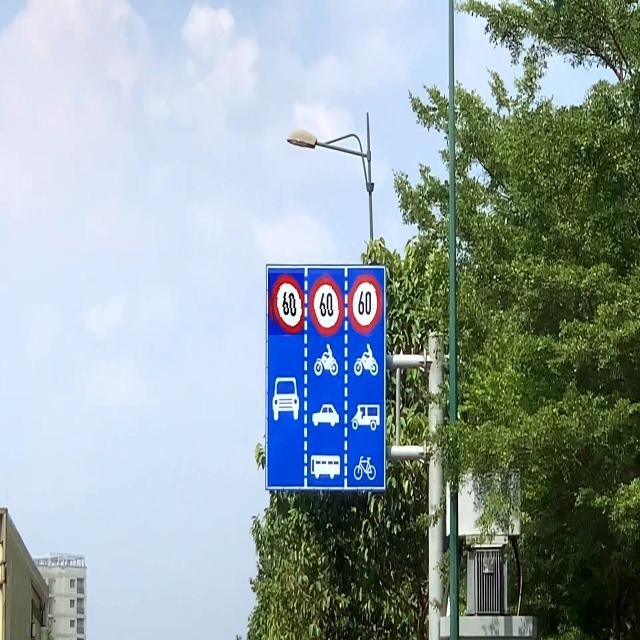bien_cam: (268, 274, 304, 336), (348, 275, 384, 336), (309, 274, 344, 336)
